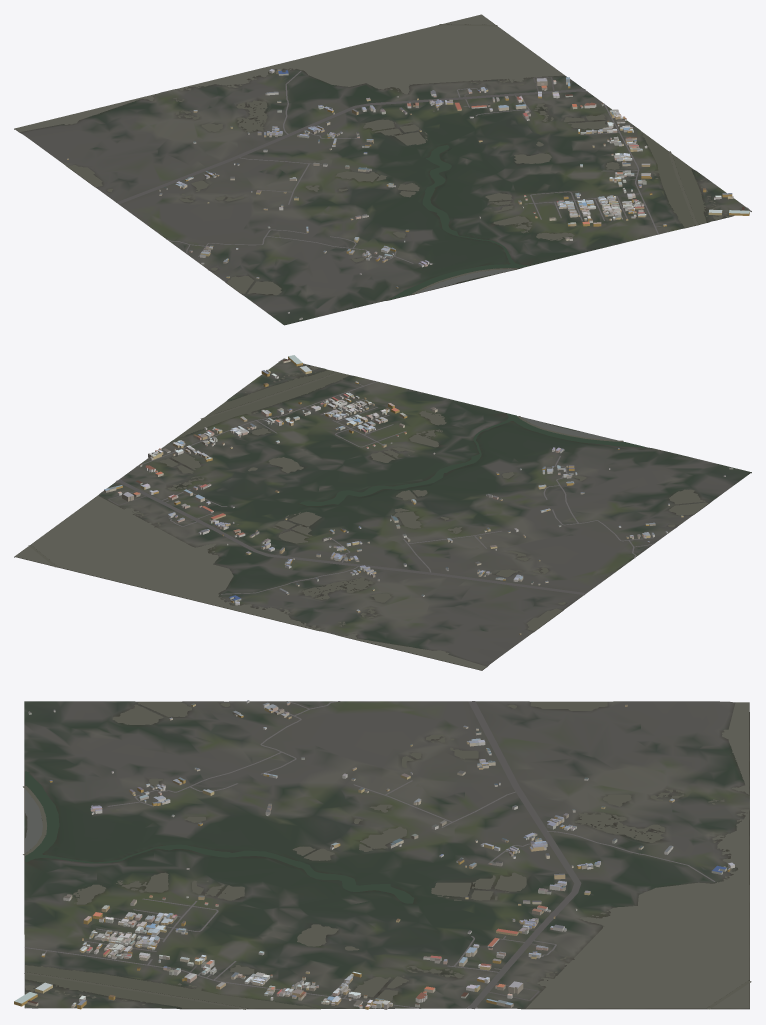
3 renders of one model, top to bottom at view 1: azimuth 30°, elevation 25°; view 2: azimuth 150°, elevation 25°; view 3: azimuth 270°, elevation 25°, orthographic. The views are drawn at different scales.
Parts seen in each view (by area): view 1: ground, water, buildings, roads; view 2: ground, water, buildings, roads; view 3: ground, water, buildings, roads.
Part boxes in pixels (bbox=[...]): ground: bbox=[14, 18, 751, 325]; water: bbox=[15, 14, 730, 299]; buildings: bbox=[67, 69, 749, 319]; roads: bbox=[116, 71, 751, 263]; ground: bbox=[14, 358, 751, 670]; water: bbox=[15, 363, 708, 670]; buildings: bbox=[104, 355, 733, 634]; roads: bbox=[108, 358, 654, 594]; ground: bbox=[24, 701, 749, 1009]; water: bbox=[23, 701, 751, 1009]; buildings: bbox=[14, 700, 734, 1009]; roads: bbox=[24, 701, 715, 1009].
Bounding box in the file's own units: 1407 × 17.6 × 1424.
